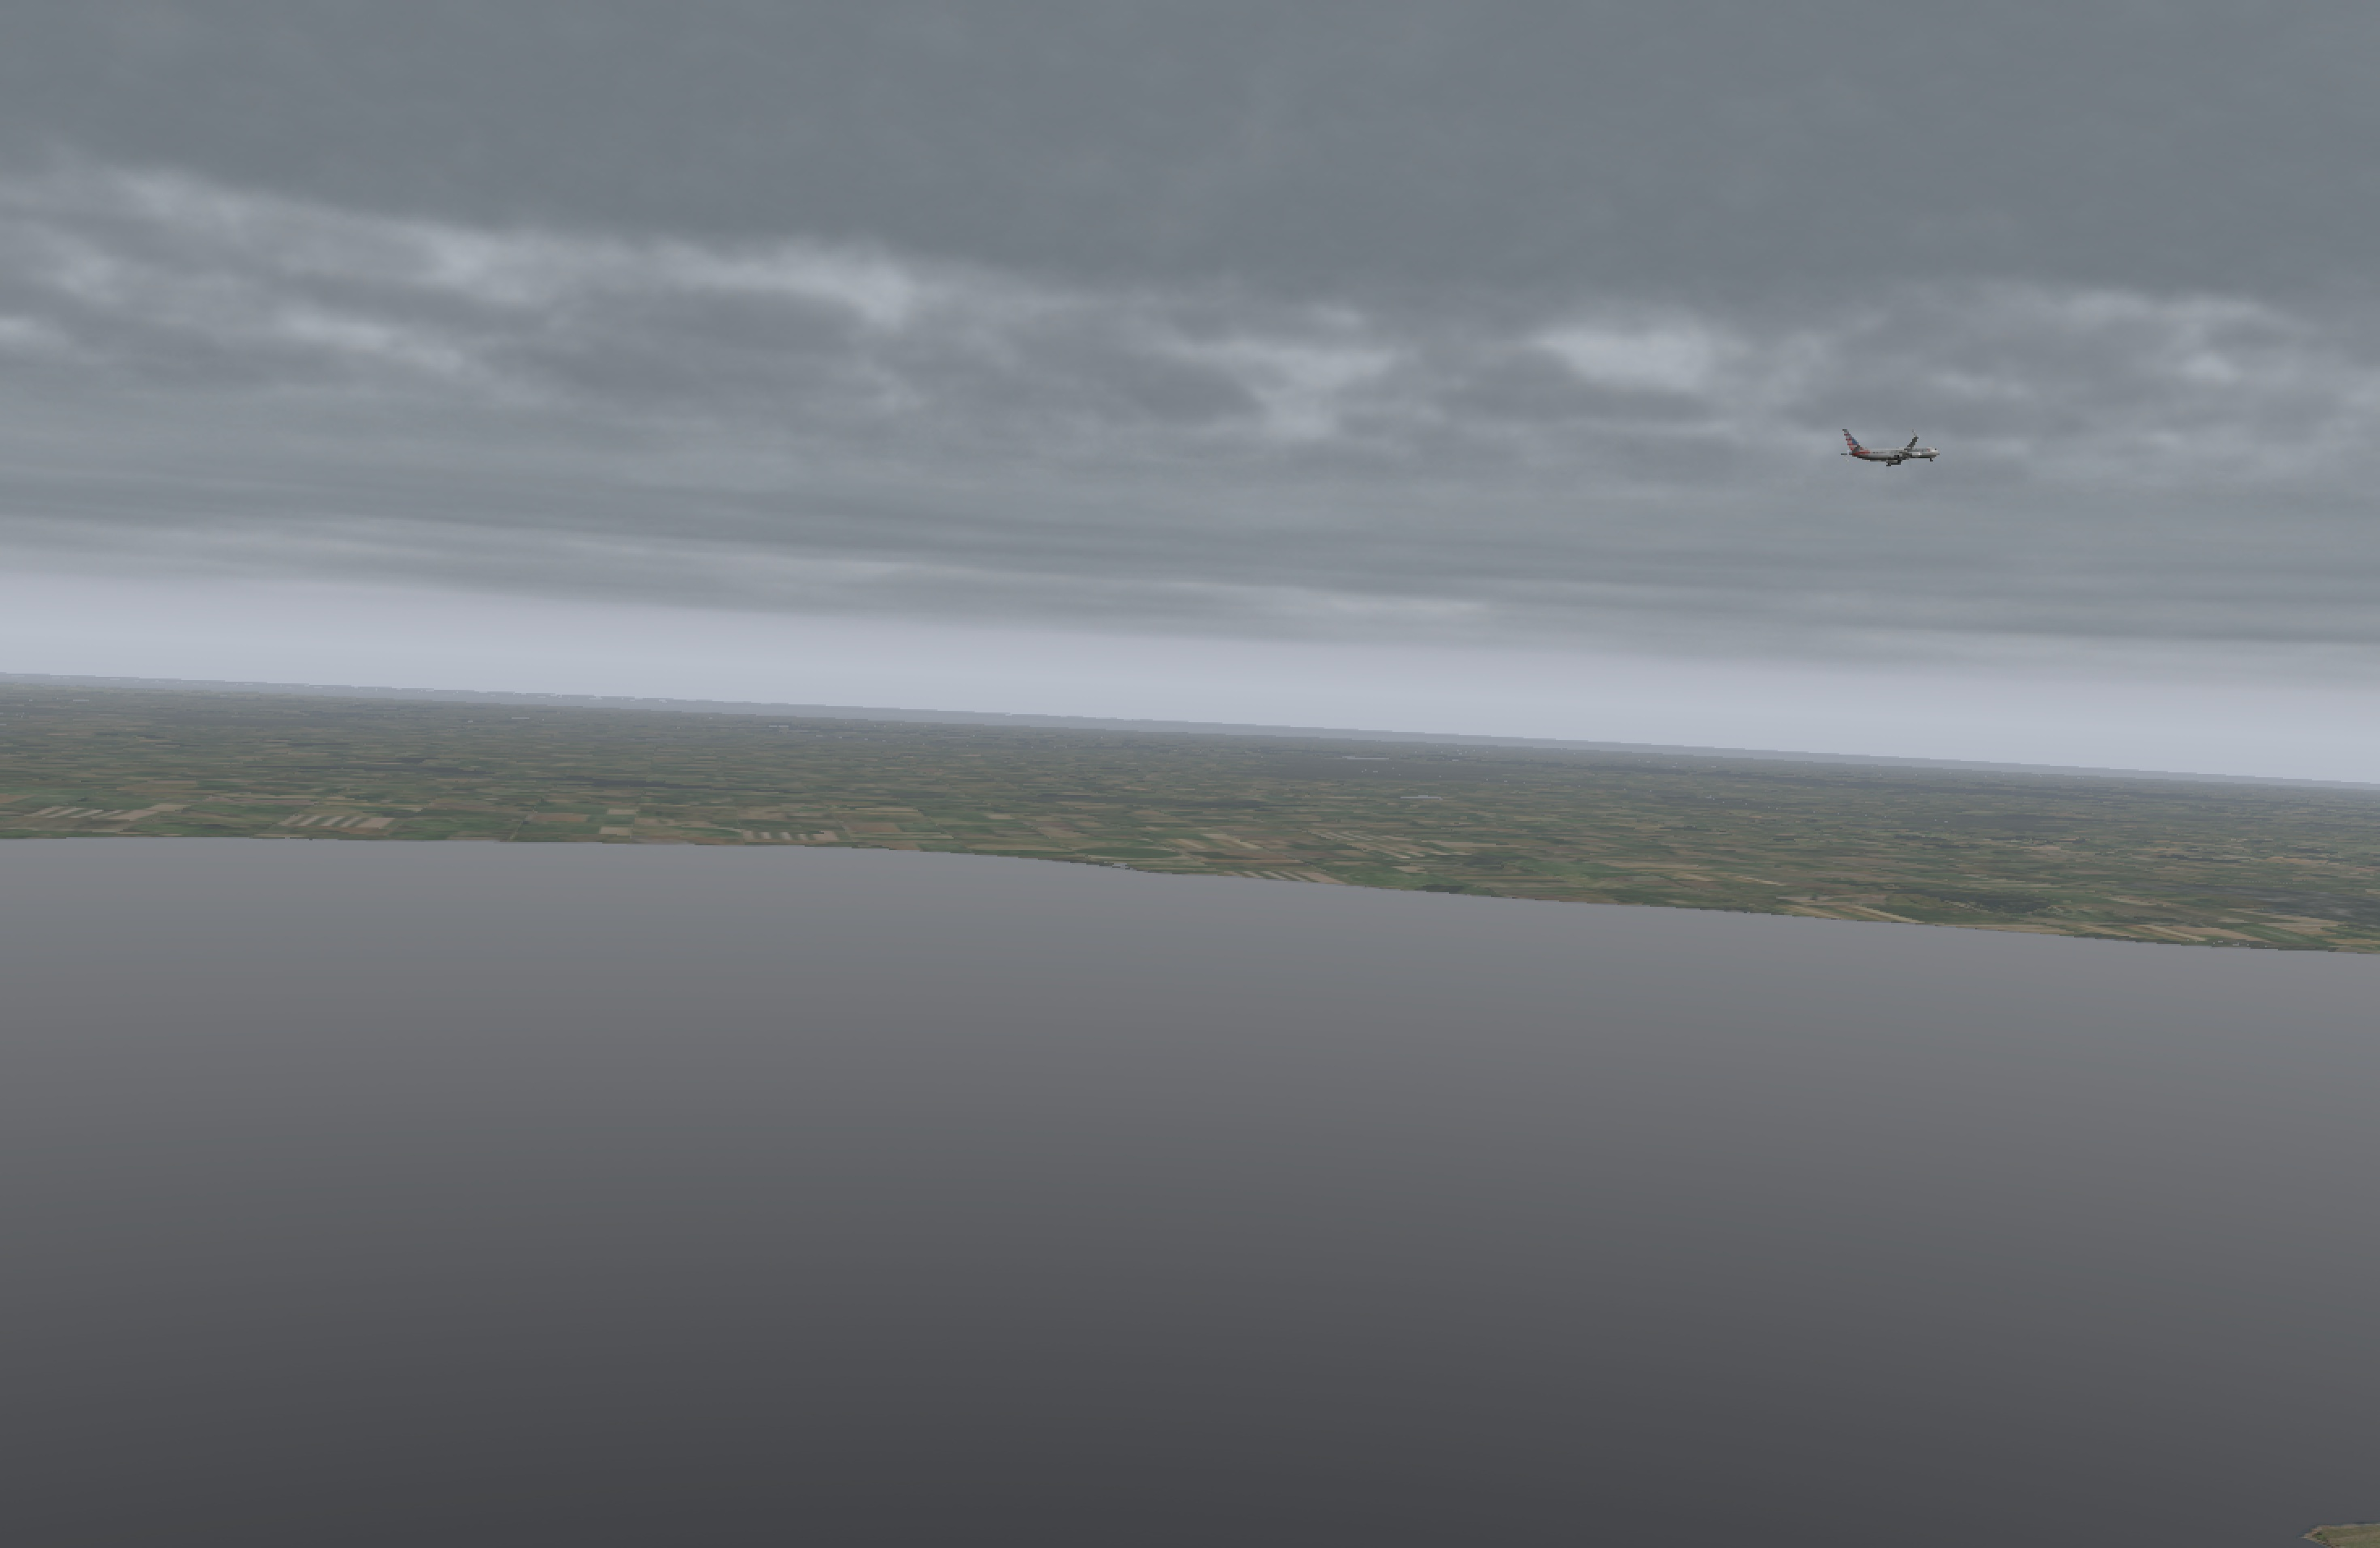aircraft: (1842, 436, 1952, 476)
